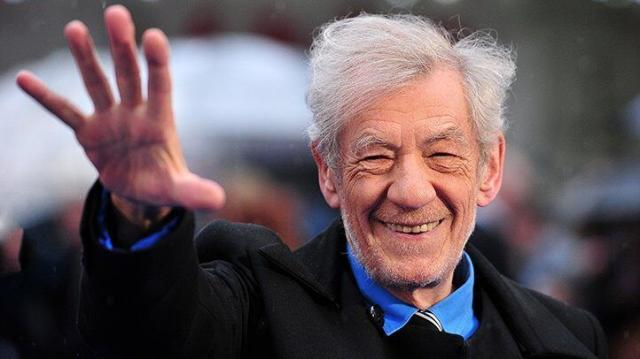crows_feet: (344, 156, 362, 180), (458, 154, 472, 182)
forehead: (364, 112, 400, 128), (418, 108, 452, 124)
gummy_smile: (367, 183, 389, 215), (437, 186, 458, 210)
masseter: (352, 216, 370, 244)
